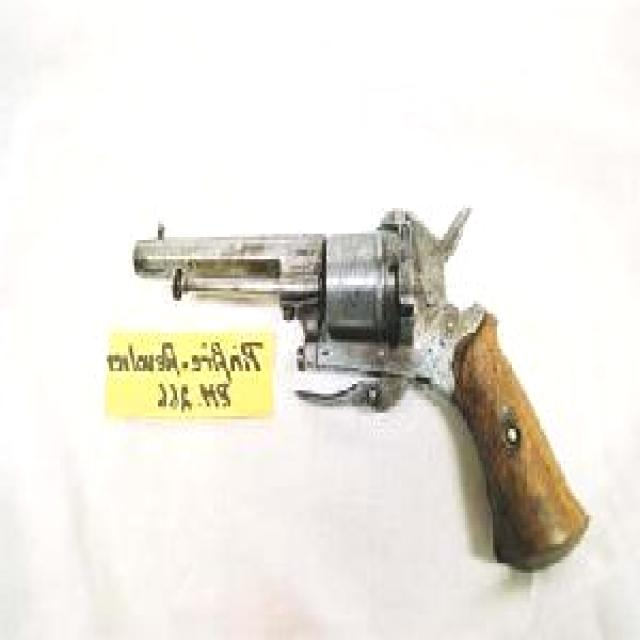pistol: (130, 189, 597, 573)
